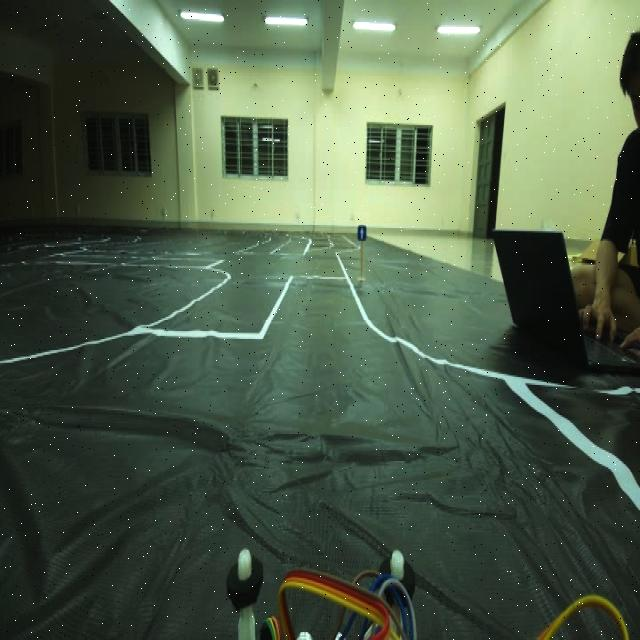onewayroad: (354, 220, 370, 244)
